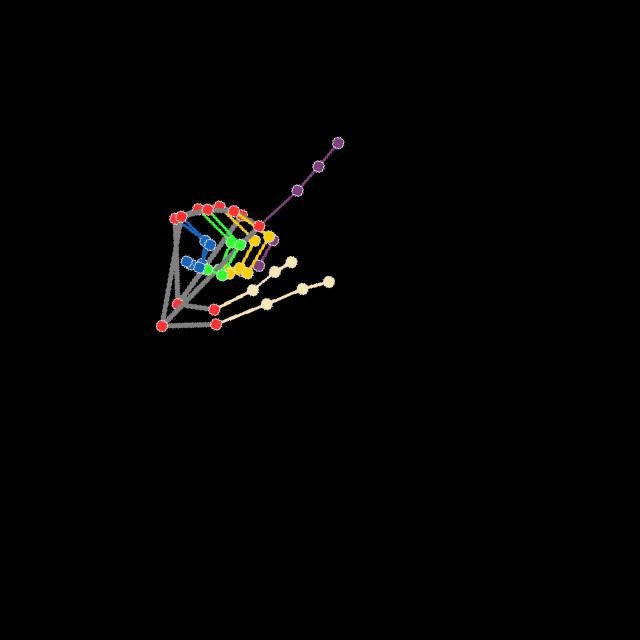gun: (153, 134, 346, 336)
